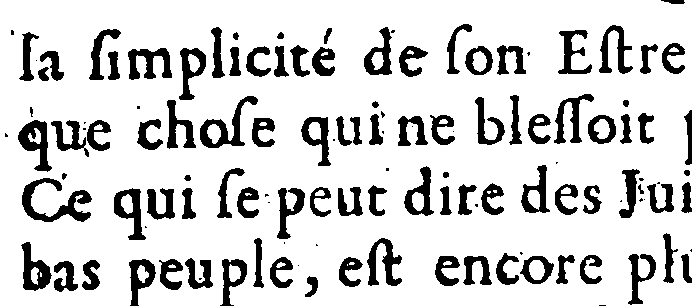o: (520, 252, 556, 288), (462, 44, 496, 78), (197, 118, 229, 149), (587, 113, 617, 146)
st: (597, 20, 637, 78), (365, 238, 407, 288)
